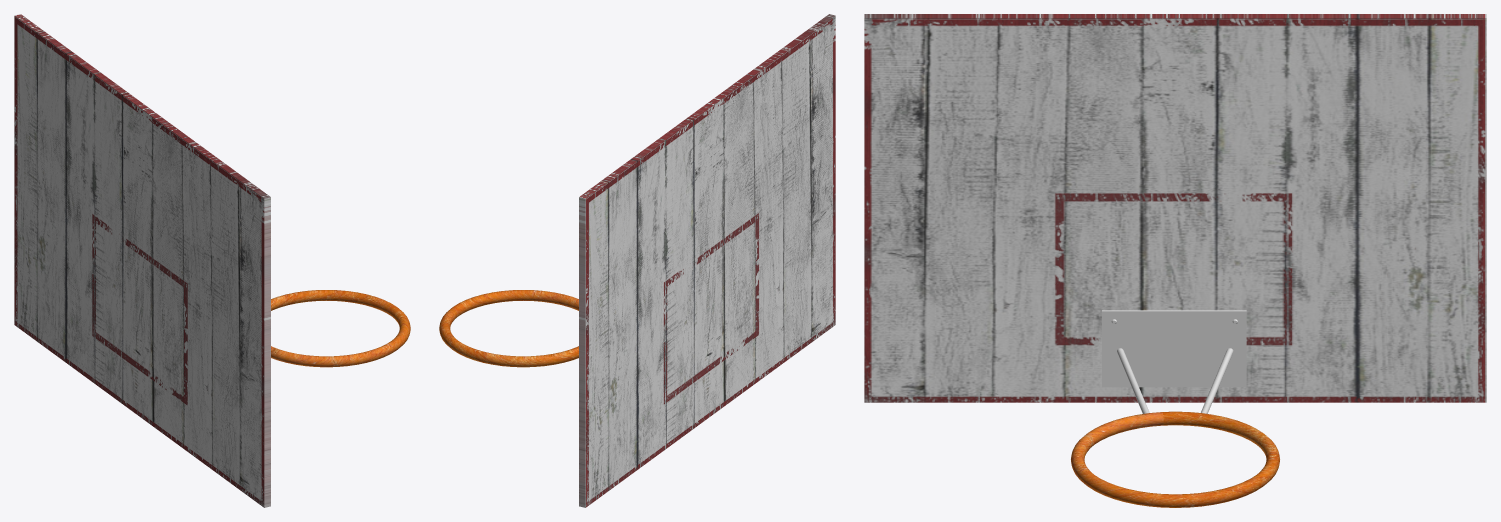
The model's file is BasketballHoop.dae.
The picture shows the model from 3 angles, left to right: view 1: azimuth 30°, elevation 25°; view 2: azimuth 150°, elevation 25°; view 3: azimuth 270°, elevation 25°; orthographic projection. The views are drawn at different scales.
Visible parts, largest first — view 1: Backboard, Hoop; view 2: Backboard, Hoop; view 3: Backboard, SupportPart, Hoop, SupportStick.
Boxes of the visible parts, left/top/right/bottom form: Backboard: left=14, top=14, right=270, bottom=507; Hoop: left=271, top=290, right=410, bottom=367; Backboard: left=579, top=14, right=835, bottom=507; Hoop: left=439, top=290, right=578, bottom=367; Backboard: left=864, top=14, right=1486, bottom=402; SupportPart: left=1102, top=310, right=1246, bottom=387; Hoop: left=1071, top=411, right=1279, bottom=507; SupportStick: left=1117, top=348, right=1233, bottom=413.
Size of the model in its own units: 2.31 by 3.85 by 2.63.
Materials: 3 (2 with a texture image).
